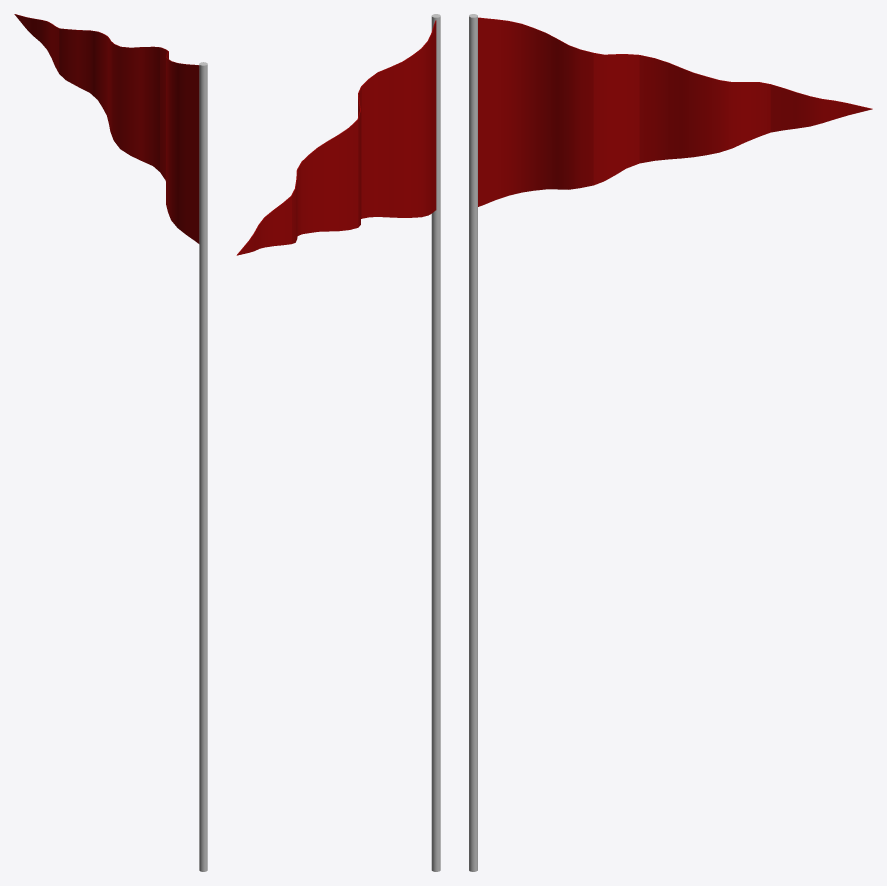
The model's file is Banderín de Golf.fbx.
3 views of the same model, side by side, from view 1: azimuth 30°, elevation 25°; view 2: azimuth 150°, elevation 25°; view 3: azimuth 270°, elevation 25° (orthographic). The views are drawn at different scales.
Visible parts, largest first — view 1: Banderín de Golf; view 2: Banderín de Golf; view 3: Banderín de Golf.
Part boxes in pixels (x1,y1,x2,y2): Banderín de Golf: (14, 14, 207, 871); Banderín de Golf: (236, 14, 440, 871); Banderín de Golf: (469, 14, 872, 871).
Size of the model in its own units: 8.78 by 288 by 123.
